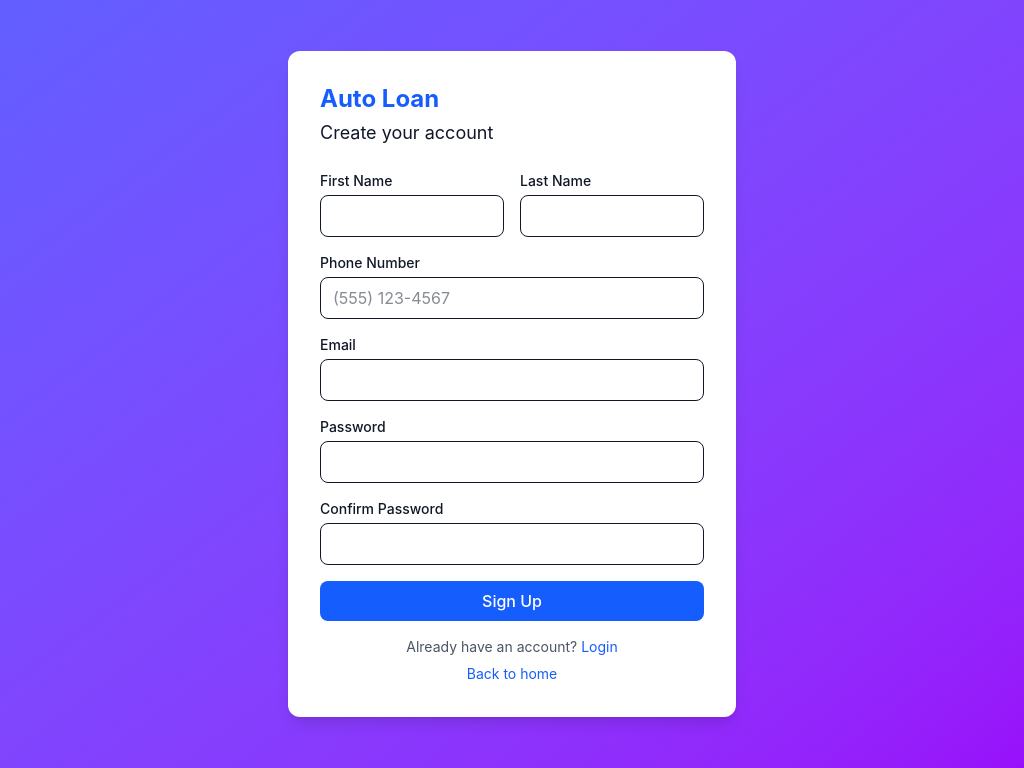
Test: SignupPage › shows error on signup failure
Type "J" into the field labelled "First Name" at (412, 216), box [320,195,504,237]
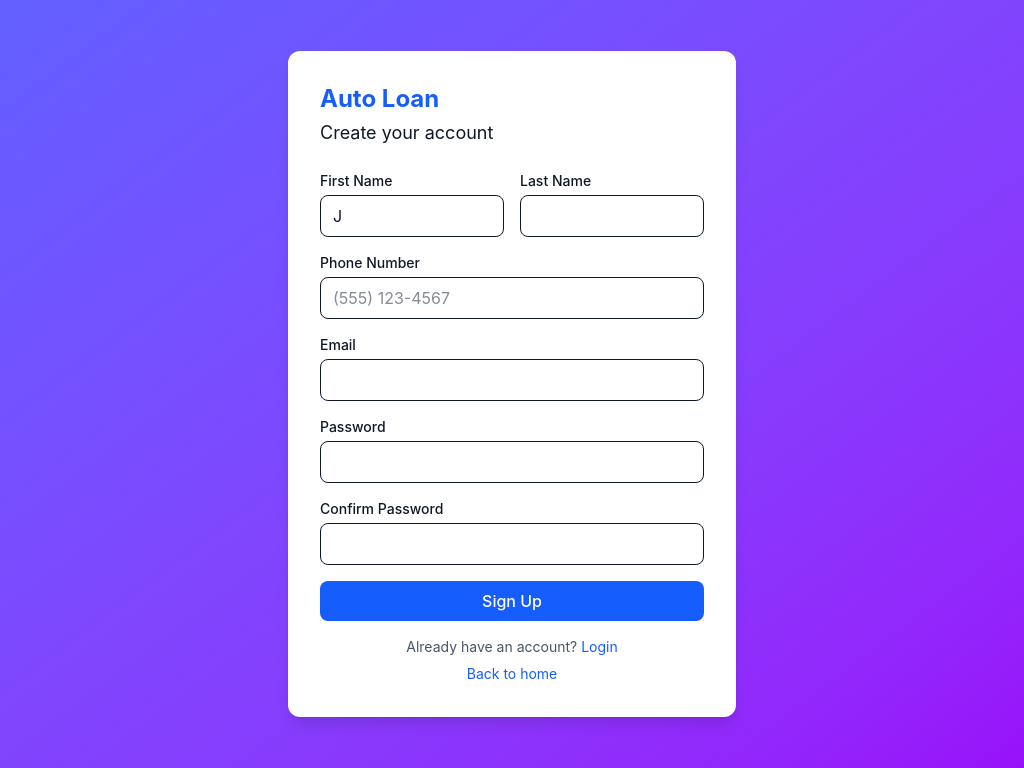
Type "D" into the field labelled "Last Name" at (612, 216), box [520,195,704,237]
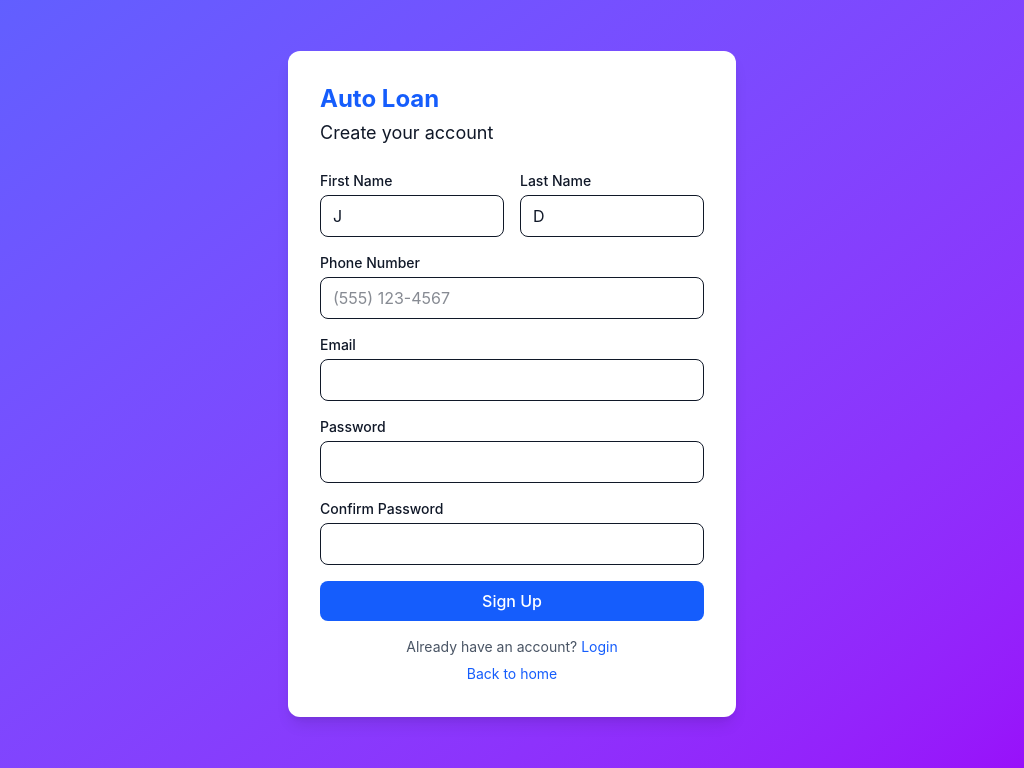
Type "j@d.com" into the field labelled "Email" at (512, 380), box [320,359,704,401]
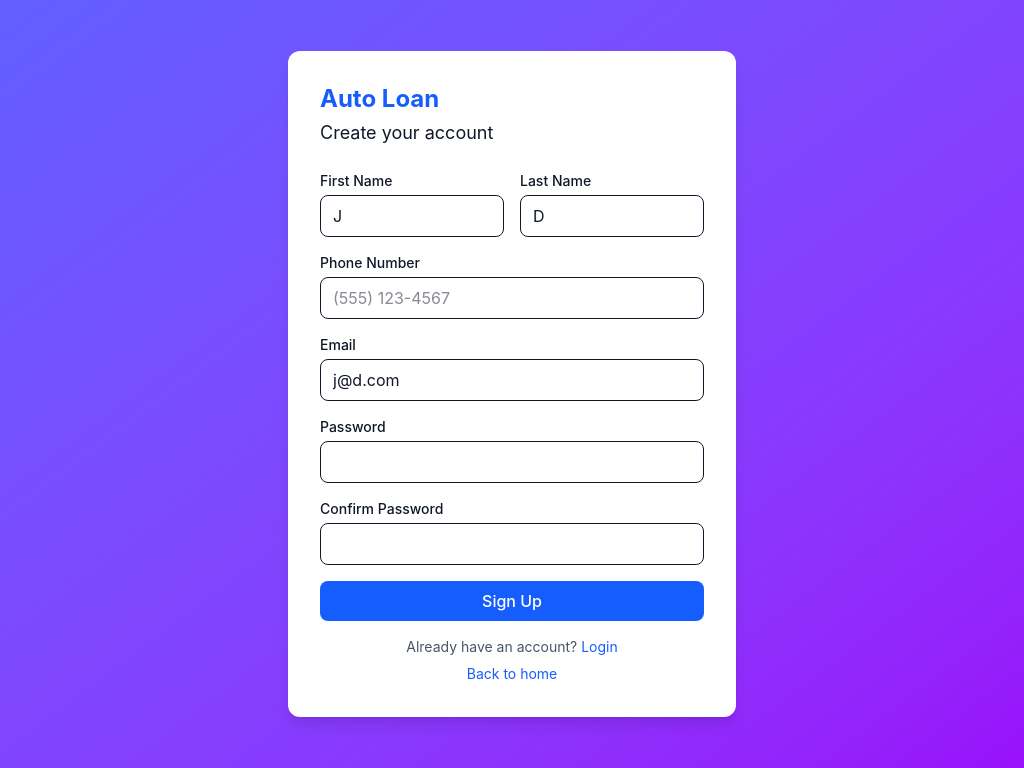
Type "p" into the password field labelled "Password" at (512, 462), box [320,441,704,483]
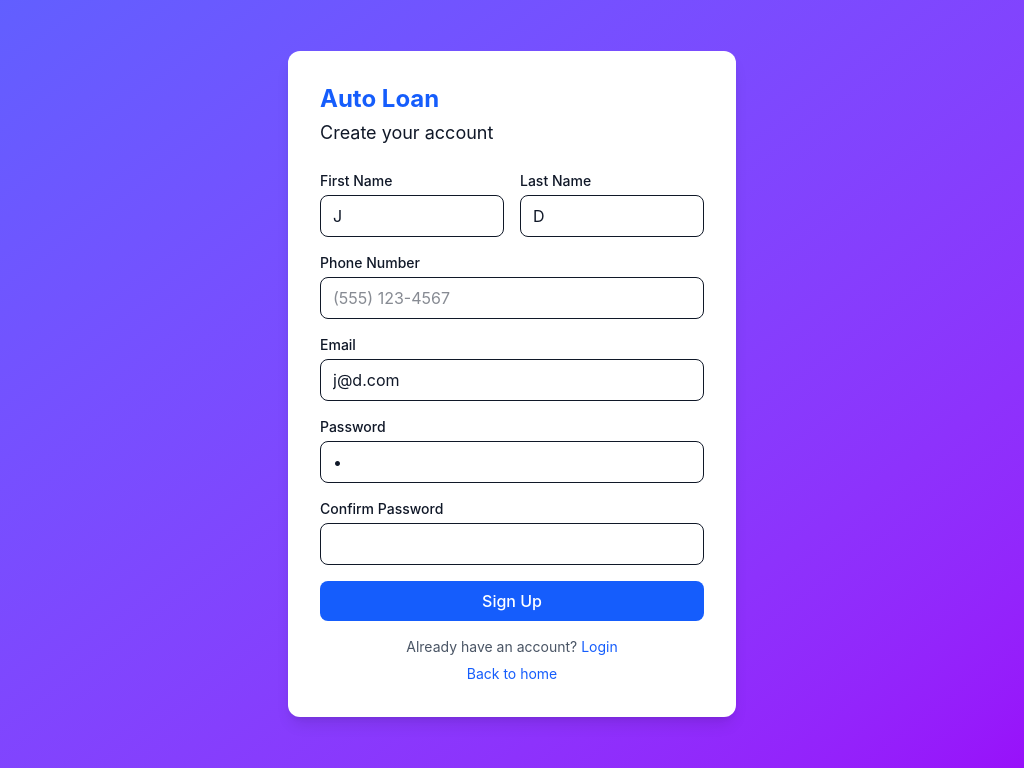
Type "p" into the password field labelled "Confirm Password" at (512, 544), box [320,523,704,565]
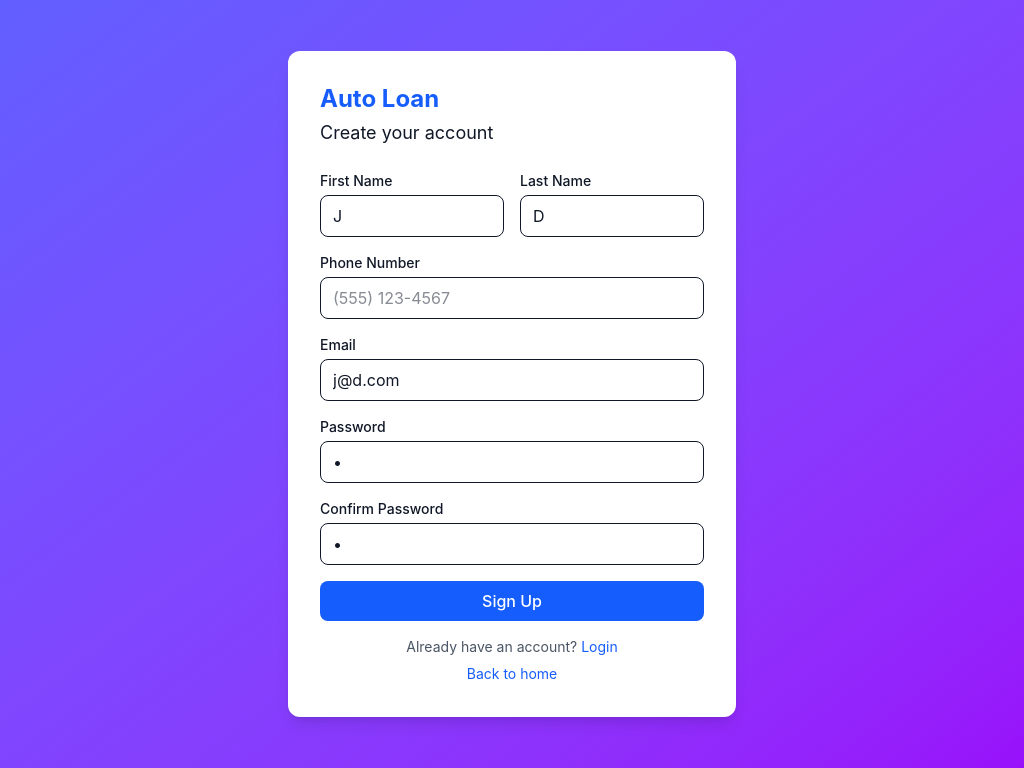
Click the button "Sign Up" at (512, 601), box [320,581,704,621]
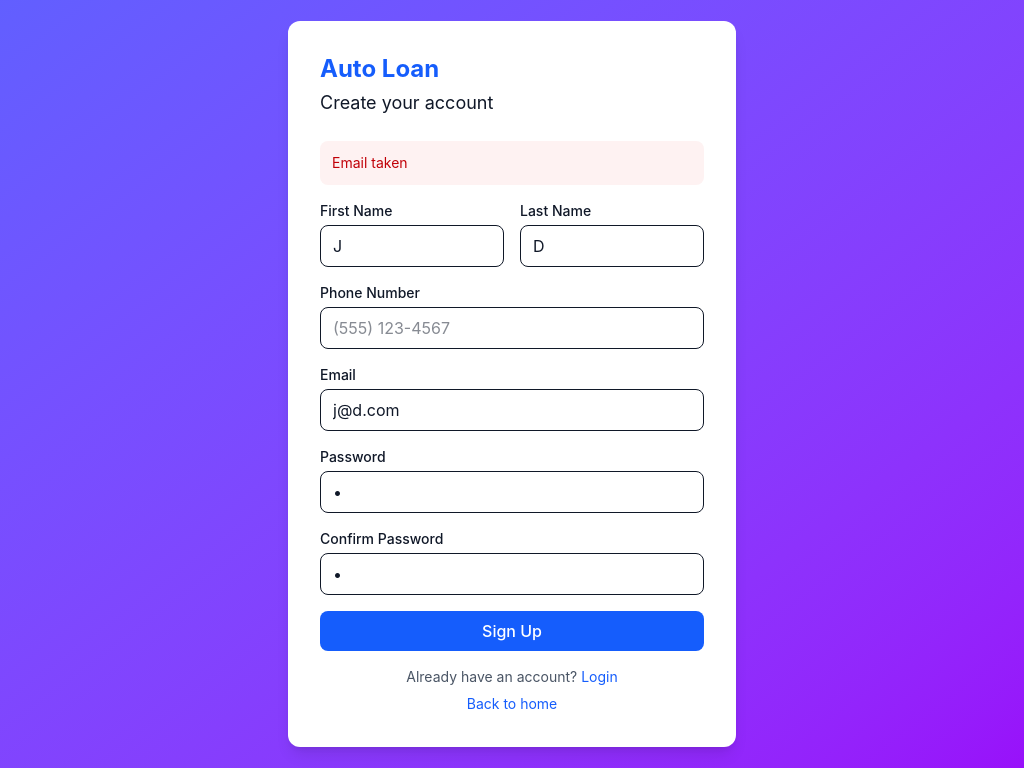
Expected: the message reads "Email taken", [332,154,408,171]
